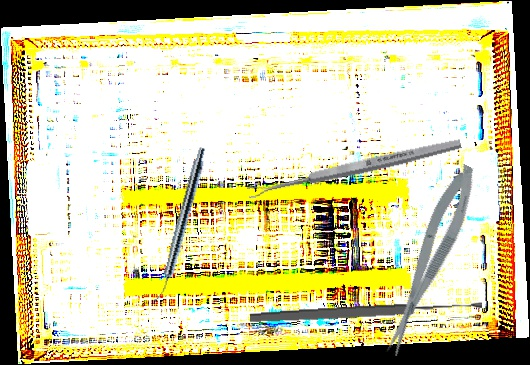Handpiece: (152, 145, 209, 305)
Micro Scissor: (372, 160, 487, 360)
Surgical Spoon: (246, 136, 463, 200), (249, 298, 483, 326)
